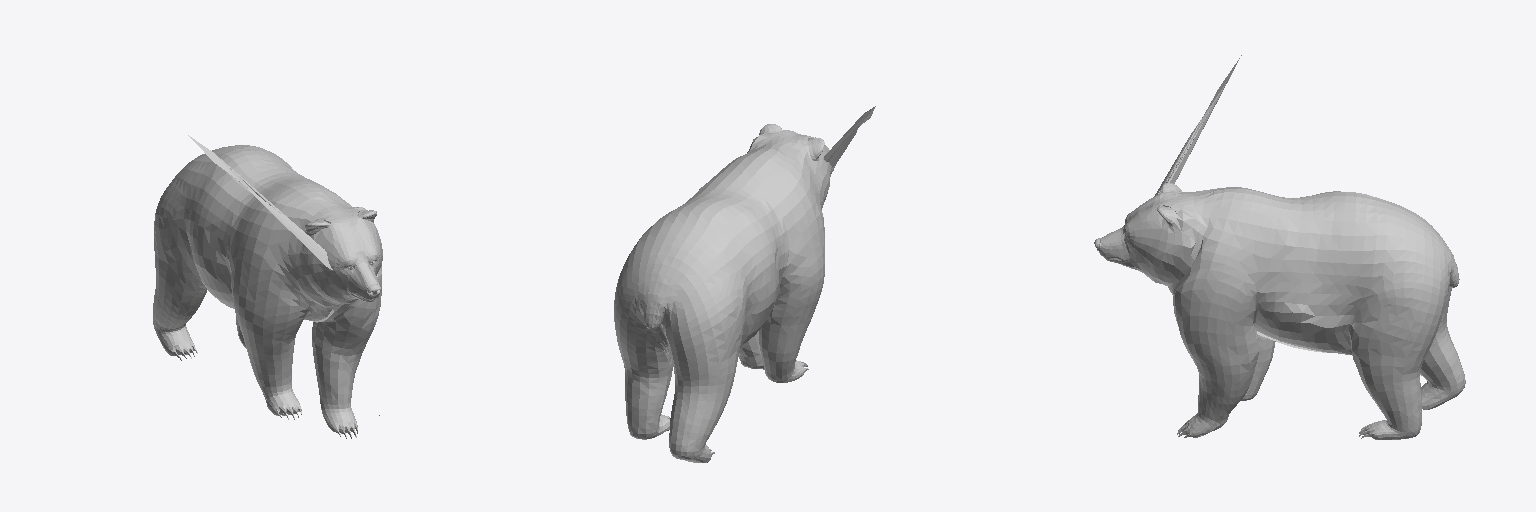
The model's file is Bear0160.obj.
The picture shows the model from 3 angles: view 1: azimuth 30°, elevation 25°; view 2: azimuth 150°, elevation 25°; view 3: azimuth 270°, elevation 25°; orthographic projection.
Parts seen in each view (by area): view 1: Object_237; view 2: Object_237; view 3: Object_237.
Part boxes in pixels (bbox=[...]): Object_237: bbox=[153, 135, 382, 438]; Object_237: bbox=[614, 106, 875, 462]; Object_237: bbox=[1094, 55, 1465, 439].
Bounding box in the file's own units: 2.72 × 4.61 × 4.92.